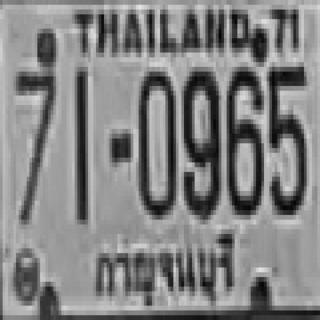N00: (136, 67, 173, 215)
N01: (72, 67, 85, 220)
N05: (267, 62, 304, 210)
N06: (224, 62, 261, 210)
N07: (13, 67, 53, 220)
N09: (181, 67, 219, 215)
P17: (85, 230, 238, 306)
